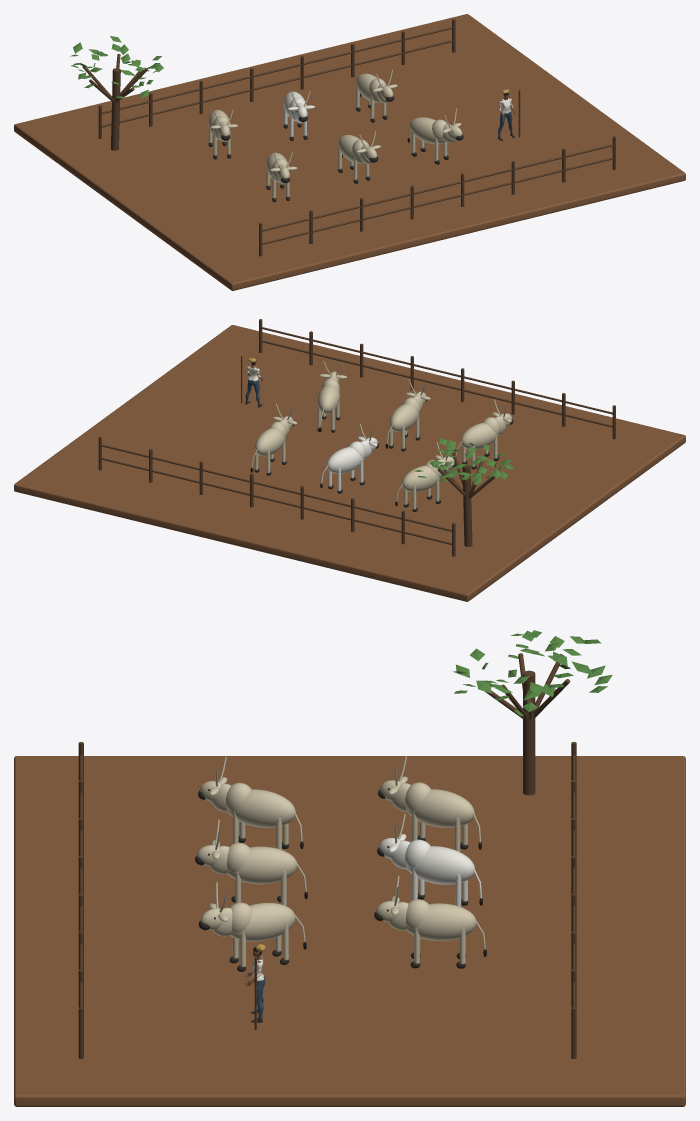
The model's file is fulani-herdsman.glb.
3 renders of one model, top to bottom at view 1: azimuth 30°, elevation 25°; view 2: azimuth 150°, elevation 25°; view 3: azimuth 270°, elevation 25°, orthographic. The views are drawn at different scales.
Parts seen in each view (by area): view 1: Earth plot, Fence rail.003, Fence rail.002, Fence rail, Fence rail.001, Trunk, Cattle torso.002; view 2: Earth plot, Fence rail.003, Fence rail.002, Fence rail.001, Fence rail, Cattle torso.004, Cattle torso.003, Cattle torso, Trunk, Cattle torso.005, Cattle torso.001, Cattle torso.002; view 3: Earth plot, Cattle torso.004, Cattle torso, Cattle torso.003, Cattle torso.005, Cattle torso.001, Cattle torso.002, Trunk, Fence rail.001, Fence rail.003.
Boxes of the visible parts, x1=… form: Earth plot: x1=14, y1=14, x2=685, y2=290; Fence rail.003: x1=262, y1=144, x2=613, y2=231; Fence rail.002: x1=262, y1=157, x2=613, y2=244; Fence rail: x1=102, y1=40, x2=452, y2=127; Fence rail.001: x1=102, y1=27, x2=452, y2=114; Trunk: x1=111, y1=68, x2=120, y2=150; Cattle torso.002: x1=409, y1=117, x2=445, y2=144; Earth plot: x1=14, y1=325, x2=685, y2=601; Fence rail.003: x1=261, y1=327, x2=612, y2=414; Fence rail.002: x1=261, y1=340, x2=612, y2=427; Fence rail.001: x1=101, y1=444, x2=452, y2=531; Fence rail: x1=101, y1=457, x2=452, y2=544; Cattle torso.004: x1=326, y1=447, x2=364, y2=473; Cattle torso.003: x1=402, y1=465, x2=440, y2=491; Cattle torso: x1=460, y1=422, x2=498, y2=449; Trunk: x1=462, y1=464, x2=472, y2=546; Cattle torso.005: x1=255, y1=428, x2=285, y2=456; Cattle torso.001: x1=389, y1=404, x2=418, y2=431; Cattle torso.002: x1=317, y1=385, x2=339, y2=414; Earth plot: x1=14, y1=756, x2=685, y2=1106; Cattle torso.004: x1=405, y1=846, x2=474, y2=884; Cattle torso: x1=226, y1=789, x2=295, y2=827; Cattle torso.003: x1=406, y1=789, x2=474, y2=827; Cattle torso.005: x1=406, y1=903, x2=476, y2=940; Cattle torso.001: x1=227, y1=846, x2=296, y2=884; Cattle torso.002: x1=230, y1=903, x2=295, y2=941; Trunk: x1=523, y1=670, x2=535, y2=795; Fence rail.001: x1=572, y1=755, x2=575, y2=1006; Fence rail.003: x1=79, y1=755, x2=82, y2=1006.
Bounding box in the file's own units: 18 × 3.79 × 15.
